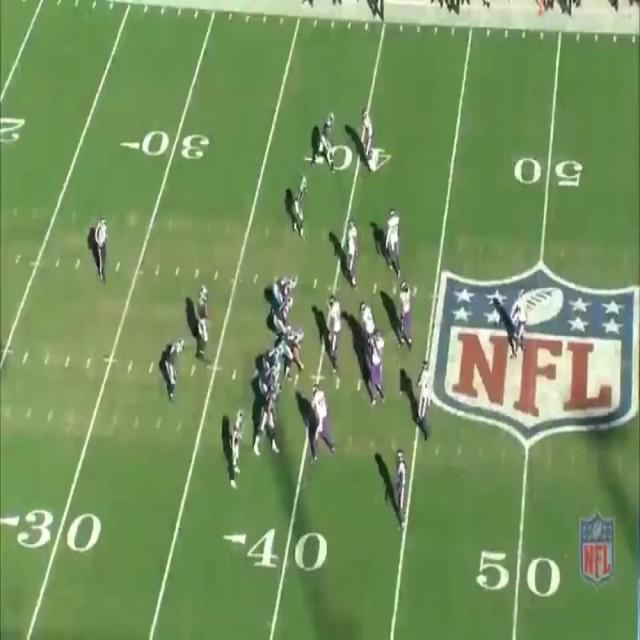center: (279, 324, 305, 363)
db: (418, 360, 432, 436), (399, 450, 408, 523)
lb: (400, 280, 413, 341), (360, 303, 376, 332)
qb: (196, 286, 210, 356)
